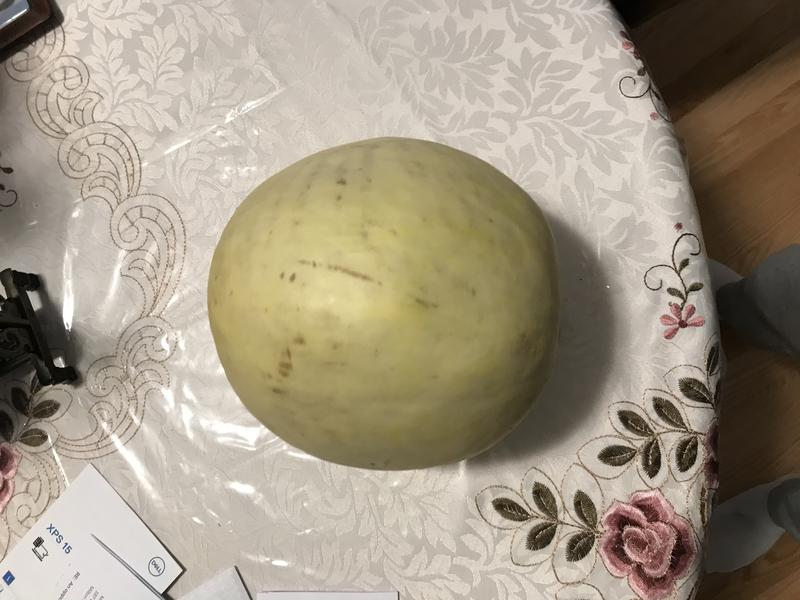honeydew: (199, 128, 574, 479)
